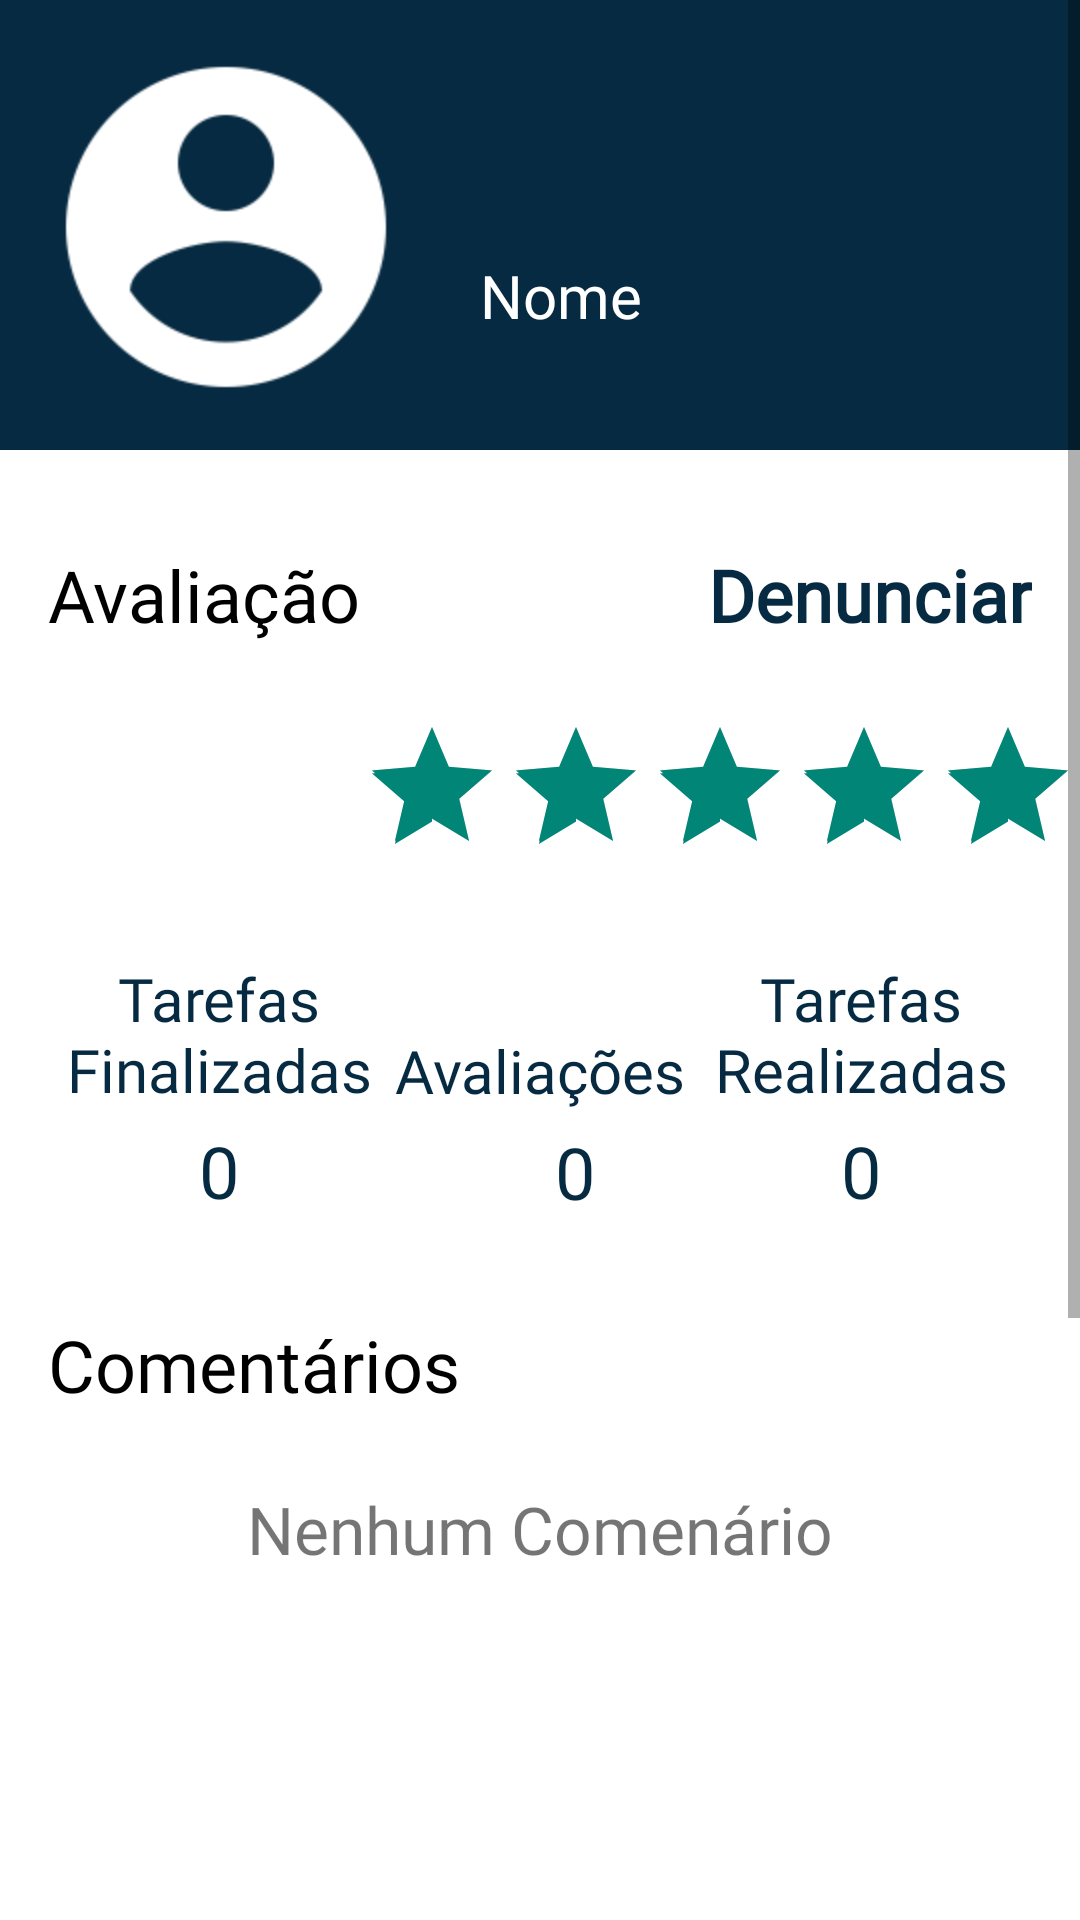

Named icons in this screenshot (1080px×1920px) and their bounding boxes, (x1, y1, x2, y2):
accountcircle: (65, 66, 387, 388)
